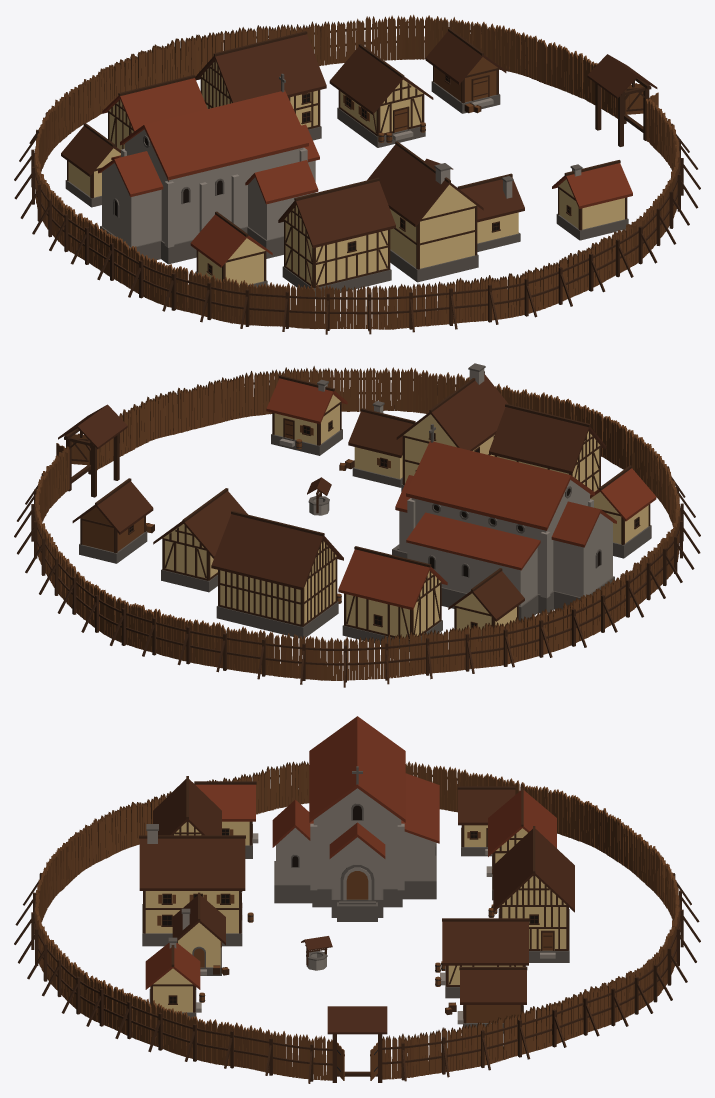
The model's file is VillaBoj.glb.
3 views of the same model, one above another, from view 1: azimuth 30°, elevation 25°; view 2: azimuth 150°, elevation 25°; view 3: azimuth 270°, elevation 25° (orthographic).
Parts seen in each view (by area): view 1: Empalizada, Iglesia, CasaEntramado, CasaGrande, CasaLarga, Galpon, CasaPequena3, Establo, CasaTrasera, CasaPequena1, CasaAnexo, CasaPequena2 (+1 smaller); view 2: Empalizada, Iglesia, CasaLarga, CasaTrasera, CasaEntramado, CasaGrande, CasaPequena3, Galpon, Establo, CasaAnexo, CasaPequena1, CasaPequena2 (+2 smaller); view 3: Empalizada, Iglesia, CasaGrande, CasaLarga, Galpon, Establo, CasaPequena3, CasaTrasera, CasaAnexo, CasaEntramado, CasaPequena2, CasaPequena1 (+3 smaller).
Part boxes in pixels (x1,y1,x2,y2): Empalizada: [14, 14, 700, 334]; Iglesia: [98, 73, 319, 264]; CasaEntramado: [278, 177, 395, 296]; CasaGrande: [367, 141, 483, 282]; CasaLarga: [195, 31, 326, 140]; Galpon: [329, 43, 433, 147]; CasaPequena3: [552, 160, 632, 240]; Establo: [425, 28, 506, 113]; CasaTrasera: [102, 75, 207, 149]; CasaPequena1: [190, 211, 272, 287]; CasaAnexo: [457, 173, 524, 251]; CasaPequena2: [61, 123, 120, 207]; Empalizada: [14, 366, 700, 687]; Iglesia: [392, 424, 616, 620]; CasaLarga: [211, 511, 343, 638]; CasaTrasera: [338, 546, 447, 651]; CasaEntramado: [489, 403, 606, 494]; CasaGrande: [396, 363, 508, 491]; CasaPequena3: [266, 375, 347, 455]; Galpon: [153, 488, 247, 592]; Establo: [72, 478, 153, 563]; CasaAnexo: [348, 401, 415, 487]; CasaPequena1: [590, 465, 656, 558]; CasaPequena2: [448, 568, 524, 641]; Empalizada: [14, 761, 700, 1083]; Iglesia: [272, 716, 439, 921]; CasaGrande: [139, 824, 245, 946]; CasaLarga: [493, 826, 574, 962]; Galpon: [440, 918, 529, 998]; Establo: [457, 966, 527, 1033]; CasaPequena3: [145, 937, 201, 1018]; CasaTrasera: [486, 787, 556, 900]; CasaAnexo: [172, 892, 225, 975]; CasaEntramado: [153, 776, 221, 835]; CasaPequena2: [457, 786, 515, 856]; CasaPequena1: [194, 781, 258, 858].
Bounding box in the file's own units: 70.37 × 16.44 × 70.75.
